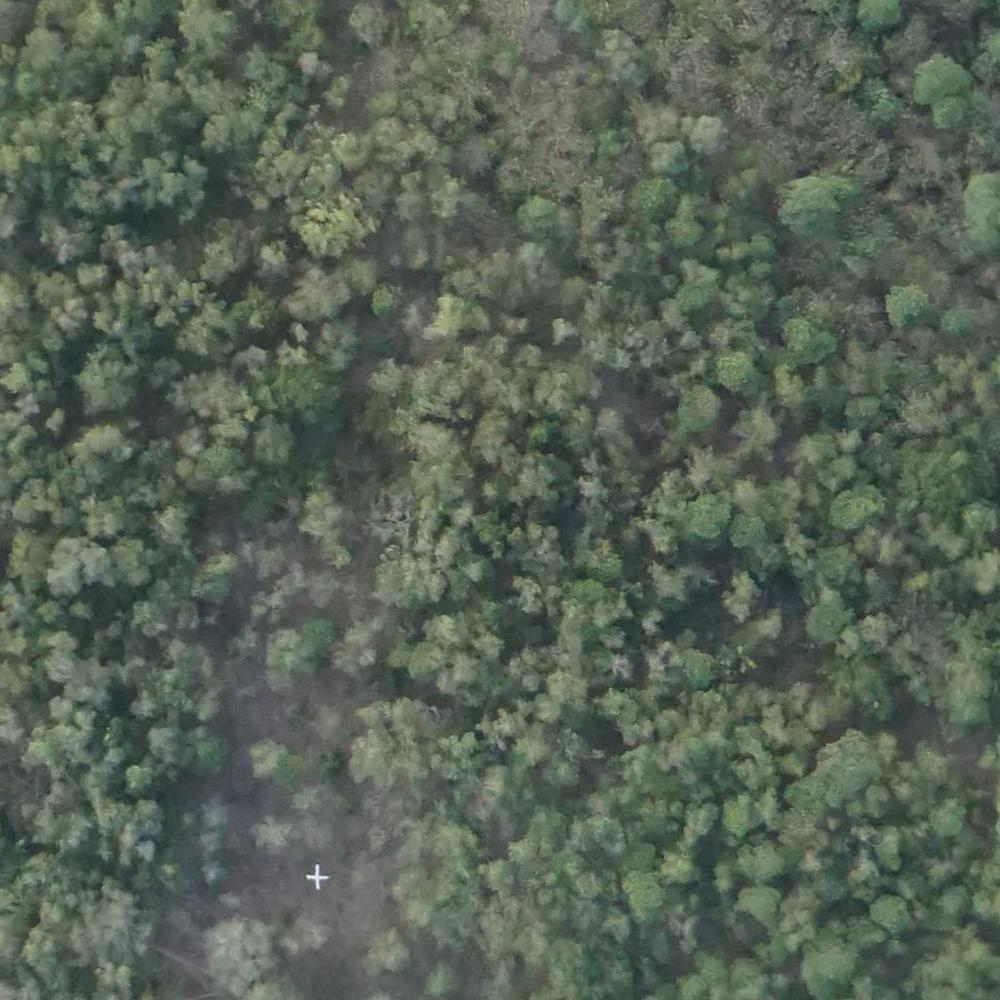tree: (356, 702, 435, 792), (302, 190, 379, 263), (776, 173, 851, 244), (74, 354, 143, 416), (143, 150, 206, 217), (49, 537, 110, 599), (823, 727, 877, 796), (214, 917, 275, 978), (285, 260, 348, 318), (178, 1, 238, 60), (507, 192, 567, 249), (411, 441, 469, 495), (79, 425, 131, 482), (336, 624, 387, 682), (622, 867, 669, 928), (566, 808, 622, 858), (781, 313, 833, 366), (674, 253, 724, 308), (203, 444, 255, 495), (60, 655, 111, 706), (828, 485, 882, 532), (915, 54, 963, 106), (266, 629, 316, 678), (428, 295, 487, 336), (629, 174, 678, 223), (886, 278, 931, 331), (864, 893, 908, 945), (724, 508, 768, 559), (683, 115, 734, 158), (681, 495, 727, 542), (733, 843, 787, 881), (295, 494, 342, 537), (182, 726, 229, 768), (154, 507, 193, 557), (677, 386, 721, 430), (20, 27, 64, 70), (806, 598, 847, 644), (677, 648, 718, 694), (926, 800, 968, 844), (245, 743, 288, 785), (458, 136, 501, 177), (735, 887, 777, 927), (121, 760, 164, 798), (513, 464, 556, 502), (194, 554, 231, 598), (861, 2, 904, 39), (249, 813, 288, 849), (869, 89, 900, 120), (536, 698, 566, 730)
